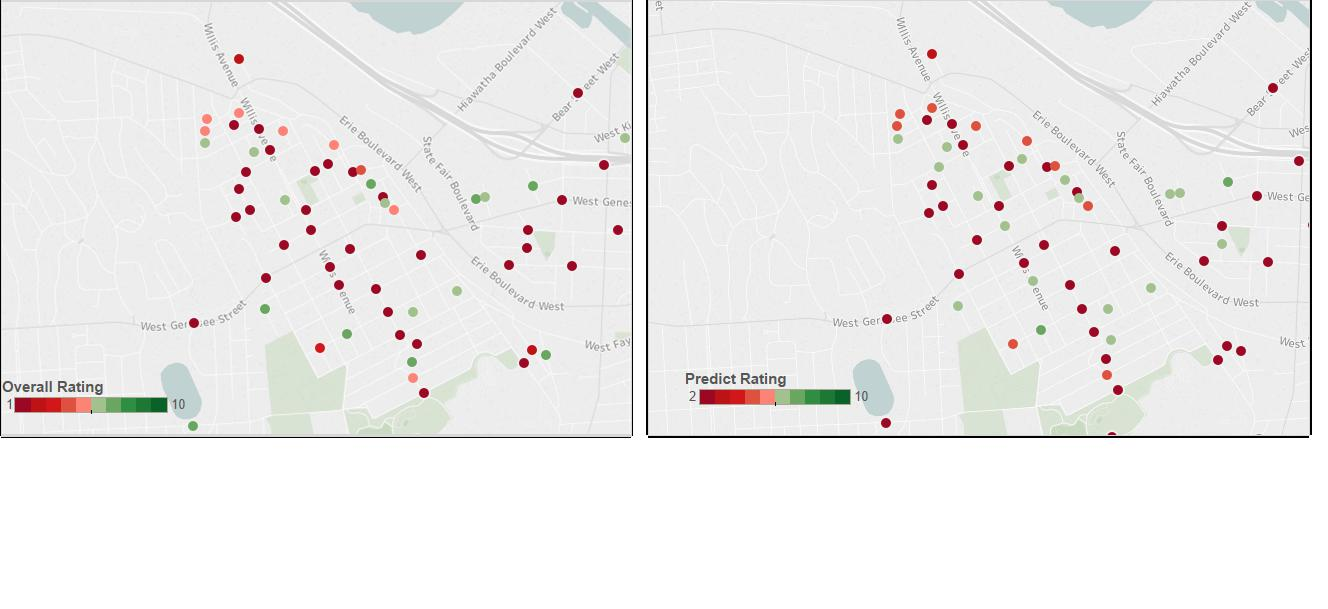

The page's visual inventory and layout, read from the dashboard file:
{"tool":"tableau","page":{"name":"2015 Ratings","canvas":[1344,625],"ordinal":1},"visuals":[{"type":"worksheet","title":"Predicted Rating 2015","mark":"Automatic","rows":["latitude"],"cols":["longitude"],"box":[645,5,603,441]},{"type":"worksheet","title":"Actual Rating 2015","mark":"Automatic","rows":["latitude"],"cols":["longitude"],"box":[7,6,634.4,440]},{"type":"legend","title":"Actual Rating 2015","param":"[textscan.06ik3ed0dr5kd51ds6ona0d58gxa].[none:overall:qk]","box":[10,382,188,43]},{"type":"legend","title":"Predicted Rating 2015","param":"[textscan.06ik3ed0dr5kd51ds6ona0d58gxa].[none:predict:qk]","box":[649,384,188,43]}]}

Visuals, with their boxes in screenshot pixels (x1, y1, x2, y2), scaled from the page's 1344x625 canvas onto the 1328x609 screenshot:
"Predicted Rating 2015" worksheet: (637, 5, 1233, 435)
"Actual Rating 2015" worksheet: (7, 6, 634, 435)
"Actual Rating 2015" legend: (10, 372, 196, 414)
"Predicted Rating 2015" legend: (641, 374, 827, 416)
